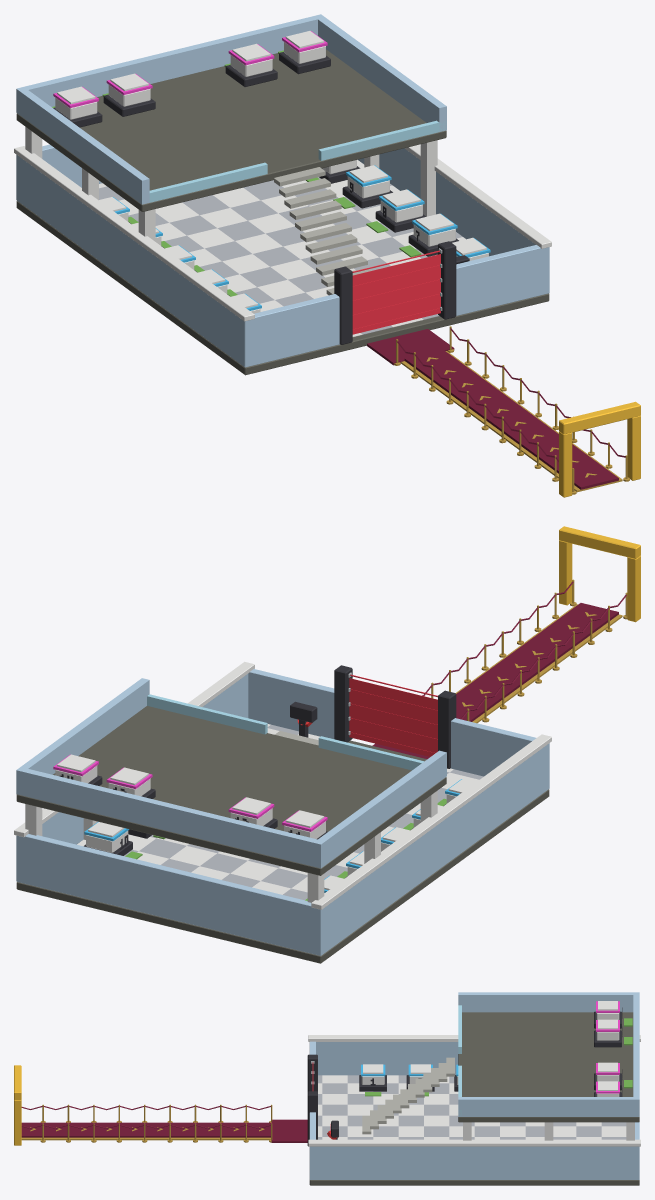
The model's file is StealBase.fbx.
3 renders of one model, top to bottom at view 1: azimuth 30°, elevation 25°; view 2: azimuth 150°, elevation 25°; view 3: azimuth 270°, elevation 25°, orthographic. The views are drawn at different scales.
Parts seen in each view (by area): view 1: StealBase, StealBase_Floor2, StealBase_Belt, StealBase_Lasers, StealBase_Slot8, StealBase_Slot9, StealBase_Slot12, StealBase_Slot13, StealBase_Slot14, StealBase_Slot7, StealBase_Slot11; view 2: StealBase, StealBase_Floor2, StealBase_Lasers, StealBase_Belt, StealBase_Slot10, StealBase_Slot14, StealBase_Slot12, StealBase_Slot13, StealBase_Slot11; view 3: StealBase, StealBase_Floor2, StealBase_Belt, StealBase_Slot12, StealBase_Slot1, StealBase_Slot13, StealBase_Slot11, StealBase_Slot2, StealBase_Slot14.
Boxes of the visible parts, x1,y1,x2,y2 form: StealBase: (14, 144, 640, 497); StealBase_Floor2: (16, 14, 446, 295); StealBase_Belt: (404, 349, 618, 489); StealBase_Lasers: (352, 250, 440, 334); StealBase_Slot8: (366, 189, 426, 232); StealBase_Slot9: (333, 165, 392, 208); StealBase_Slot12: (102, 73, 155, 116); StealBase_Slot13: (224, 43, 277, 86); StealBase_Slot14: (278, 31, 330, 74); StealBase_Slot7: (399, 213, 458, 257); StealBase_Slot11: (52, 86, 102, 127); StealBase: (14, 526, 640, 963); StealBase_Floor2: (16, 678, 446, 902); StealBase_Lasers: (349, 674, 437, 756); StealBase_Belt: (456, 603, 618, 721); StealBase_Slot10: (84, 821, 142, 859); StealBase_Slot14: (53, 754, 102, 785); StealBase_Slot12: (228, 797, 277, 828); StealBase_Slot13: (106, 767, 155, 798); StealBase_Slot11: (282, 810, 327, 839); StealBase: (14, 1035, 640, 1185); StealBase_Floor2: (362, 992, 639, 1140); StealBase_Belt: (21, 1122, 271, 1137); StealBase_Slot12: (594, 1019, 632, 1047); StealBase_Slot1: (359, 1064, 386, 1096); StealBase_Slot13: (594, 1062, 632, 1090); StealBase_Slot11: (594, 1001, 632, 1028); StealBase_Slot2: (406, 1064, 434, 1096); StealBase_Slot14: (594, 1081, 622, 1096).
Size of the model in its own units: 40.4 by 15.1 by 98.8.
1 material, 1 textured.
